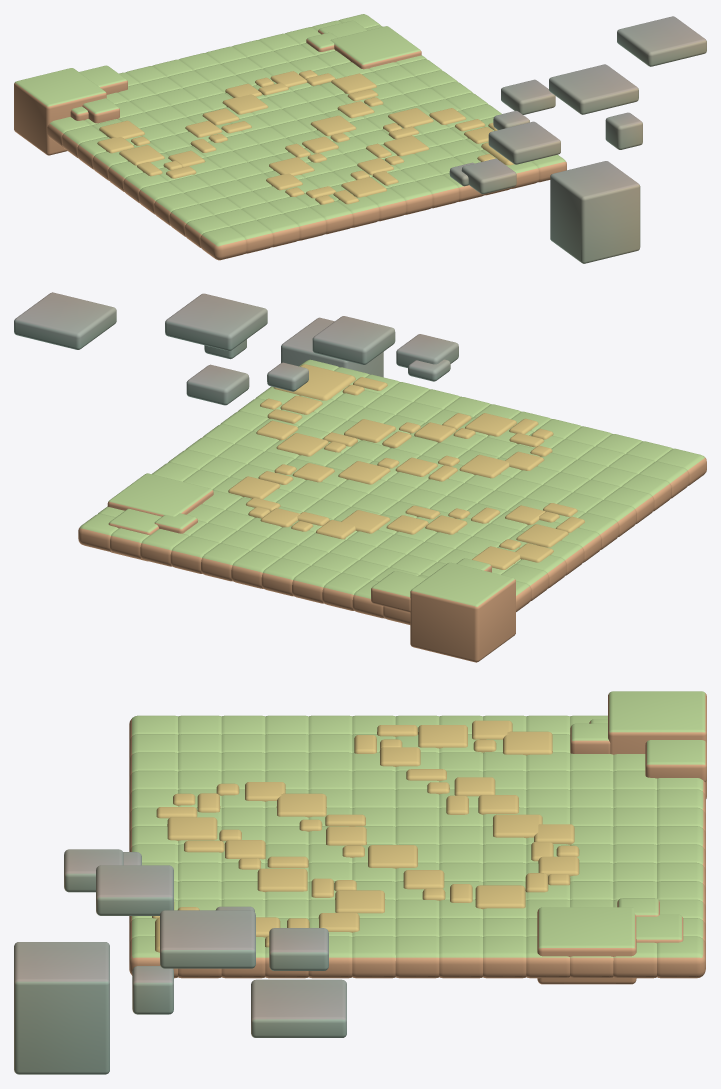
File: Floor.fbx
The picture shows the model from 3 angles, top to bottom: view 1: azimuth 30°, elevation 25°; view 2: azimuth 150°, elevation 25°; view 3: azimuth 270°, elevation 25°; orthographic projection. The views are drawn at different scales.
Parts seen in each view (by area): view 1: Rocks; view 2: Rocks; view 3: Rocks.
Boxes of the visible parts, x1=… form: Rocks: x1=14, y1=14, x2=706, y2=263; Rocks: x1=14, y1=292, x2=706, y2=662; Rocks: x1=14, y1=691, x2=706, y2=1074.
Size of the model in its own units: 960 by 196 by 760.
